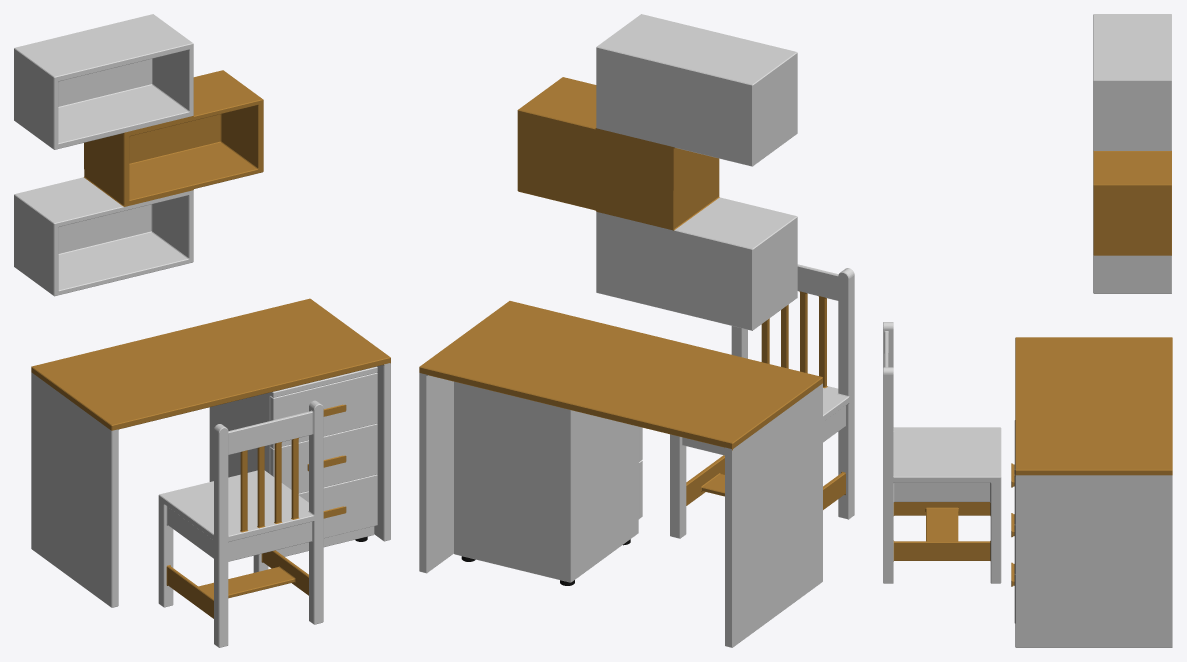
File: Kids Reading Table_01_fbx.FBX
3 renders of one model, left to right at view 1: azimuth 30°, elevation 25°; view 2: azimuth 150°, elevation 25°; view 3: azimuth 270°, elevation 25°, orthographic. The views are drawn at different scales.
Parts seen in each view (by area): view 1: Object01, Arc_object_03, Object02, Arc_object_04, Arc_object_05, Arc_object_09, Arc_object_10; view 2: Object01, Arc_object_03, Arc_object_04, Object02; view 3: Arc_object_03, Object01, Object02.
Boxes of the visible parts, x1,y1,x2,y2 form: Object01: (14,14,263,296); Arc_object_03: (31,298,390,607); Object02: (158,400,323,647); Arc_object_04: (209,366,377,556); Arc_object_05: (270,372,377,448); Arc_object_09: (270,423,377,493); Arc_object_10: (298,474,377,538); Object01: (517,14,797,330); Arc_object_03: (419,301,822,647); Arc_object_04: (454,381,638,582); Object02: (670,264,854,538); Arc_object_03: (1015,337,1172,647); Object01: (1093,14,1171,293); Object02: (883,322,1001,583).
Bounding box in the file's own units: 51 × 44.17 × 83.
